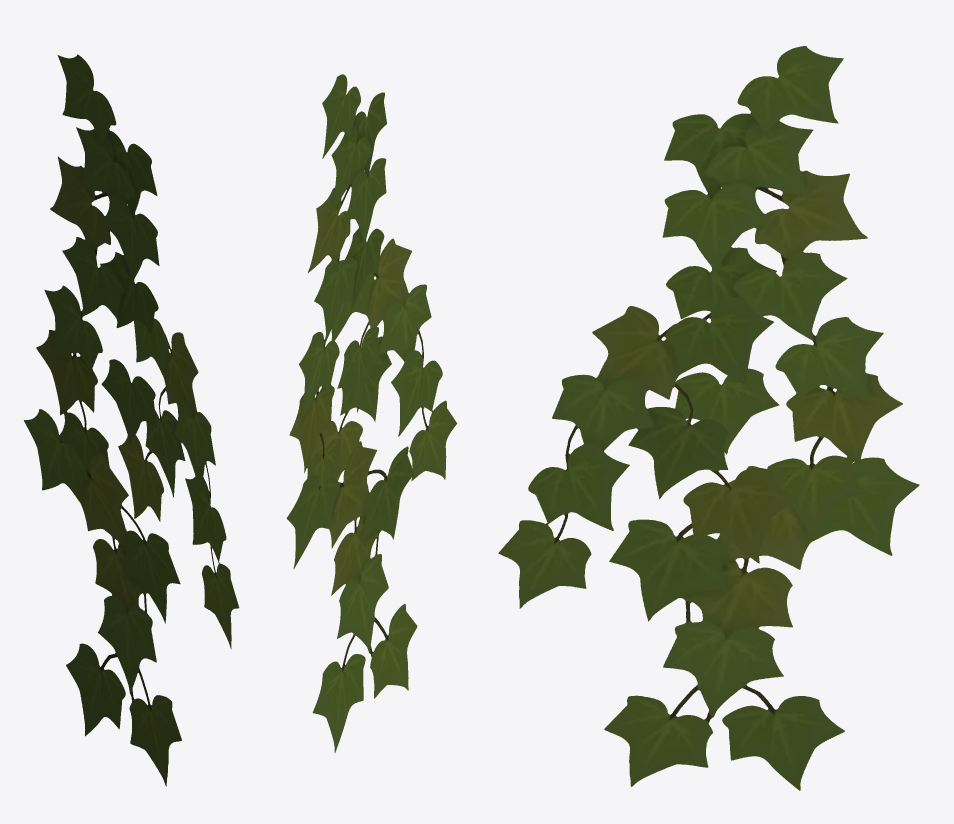
The picture shows the model from 3 angles, left to right: view 1: azimuth 30°, elevation 25°; view 2: azimuth 150°, elevation 25°; view 3: azimuth 270°, elevation 25°; orthographic projection. The views are drawn at different scales.
Visible parts, largest first — view 1: body0_model0_lod0_mesh0; view 2: body0_model0_lod0_mesh0; view 3: body0_model0_lod0_mesh0.
Part boxes in pixels (left/top/right/bottom): body0_model0_lod0_mesh0: left=24, top=54, right=239, bottom=786; body0_model0_lod0_mesh0: left=286, top=74, right=457, bottom=752; body0_model0_lod0_mesh0: left=498, top=46, right=919, bottom=790.
Bounding box in the file's own units: 3.61 × 58.73 × 30.22.
Materials: 1 (1 with a texture image).
